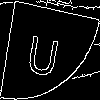U: (24, 25, 63, 79)
